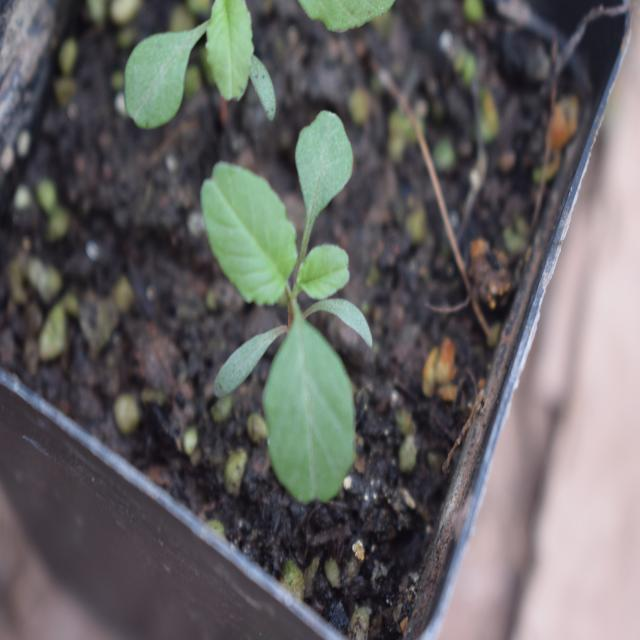pigweed: (205, 116, 374, 484)
